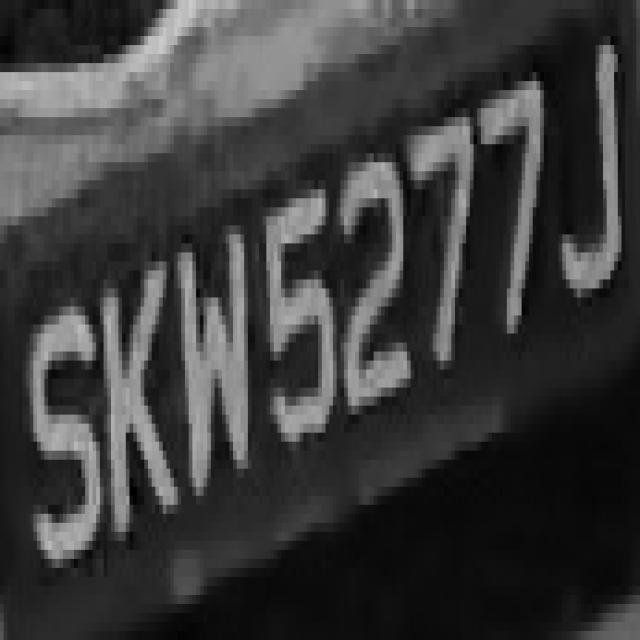2: (333, 117, 414, 424)
5: (259, 162, 340, 478)
7: (458, 81, 548, 370), (385, 90, 470, 388)
J: (544, 18, 632, 307)
K: (92, 225, 185, 577)
S: (22, 297, 104, 577)
W: (170, 207, 259, 496)
